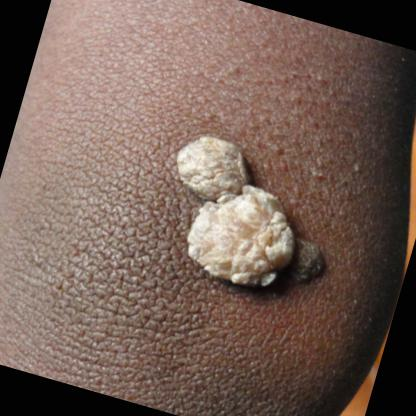Warts: (160, 167, 320, 318), (159, 122, 262, 216)
